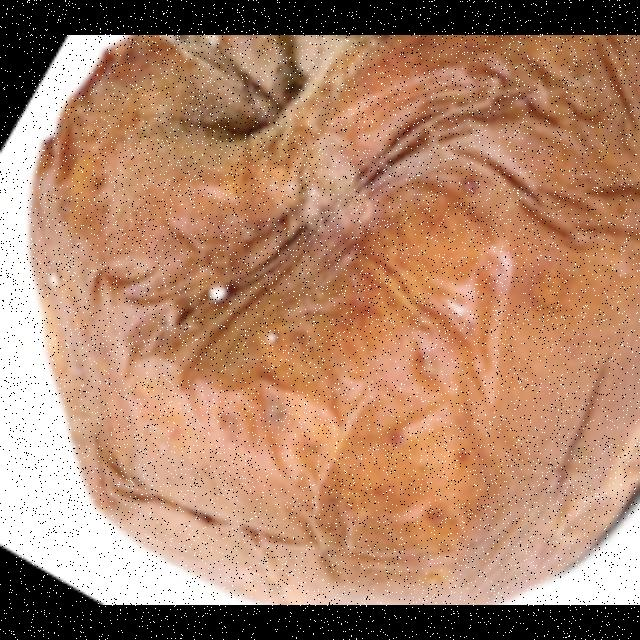Apel Tidak Segar: (23, 35, 640, 605)
